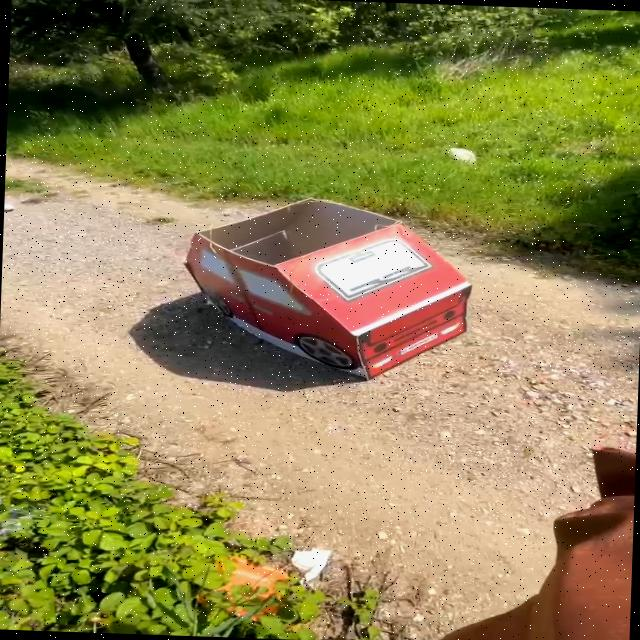red_car: (160, 185, 512, 397)
